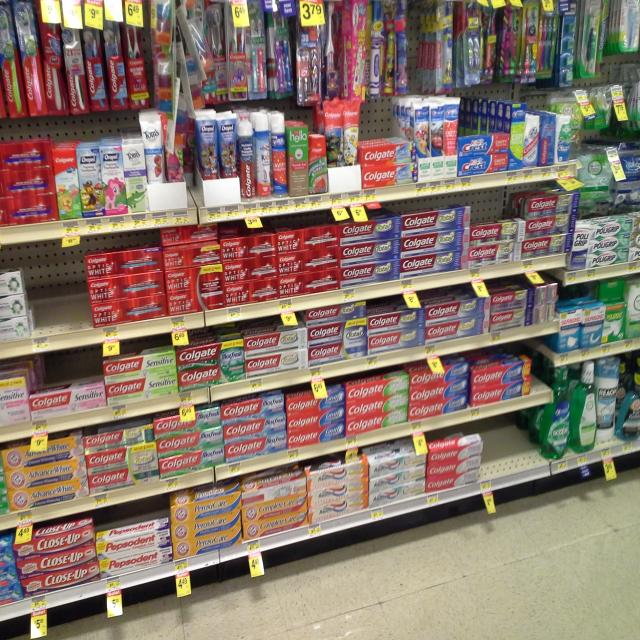unorganised: (181, 127, 200, 206)
